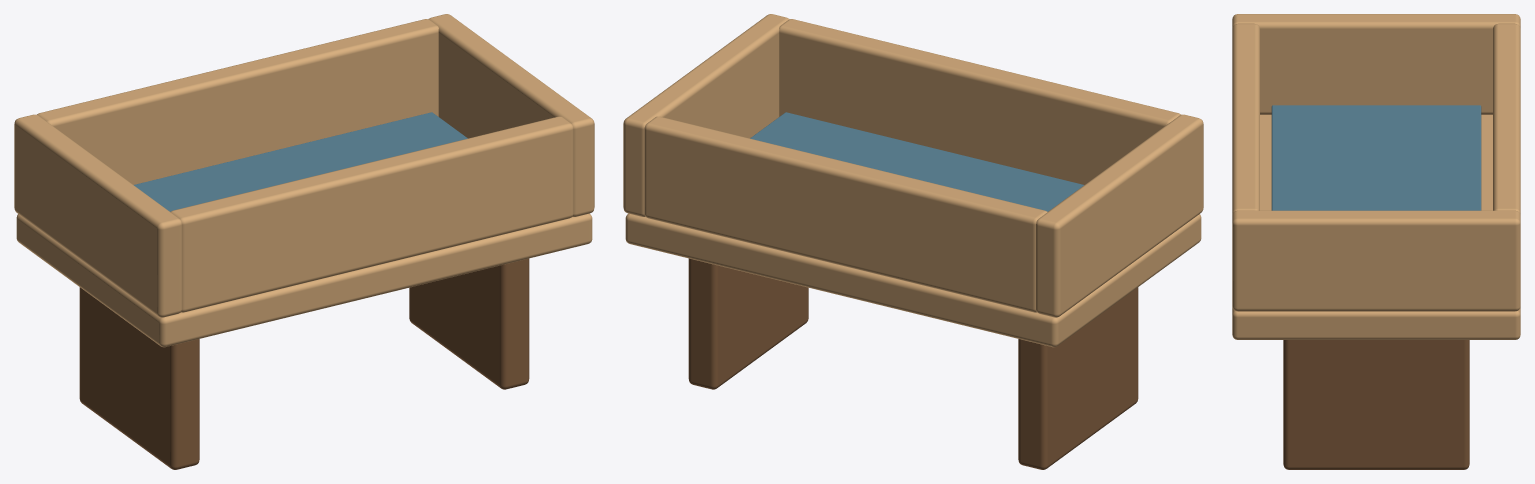
The model's file is fantasy-cartographers-map-printing-guild-paper-soaking-409a5a03__32256.glb.
3 renders of one model, left to right at view 1: azimuth 30°, elevation 25°; view 2: azimuth 150°, elevation 25°; view 3: azimuth 270°, elevation 25°, orthographic. The views are drawn at different scales.
Parts seen in each view (by area): view 1: paper-soaking-trough; view 2: paper-soaking-trough; view 3: paper-soaking-trough.
Part boxes in pixels (bbox=[...]): paper-soaking-trough: bbox=[14, 14, 594, 469]; paper-soaking-trough: bbox=[623, 14, 1203, 469]; paper-soaking-trough: bbox=[1232, 14, 1520, 469].
Size of the model in its own units: 1.06 by 0.64 by 0.62.
